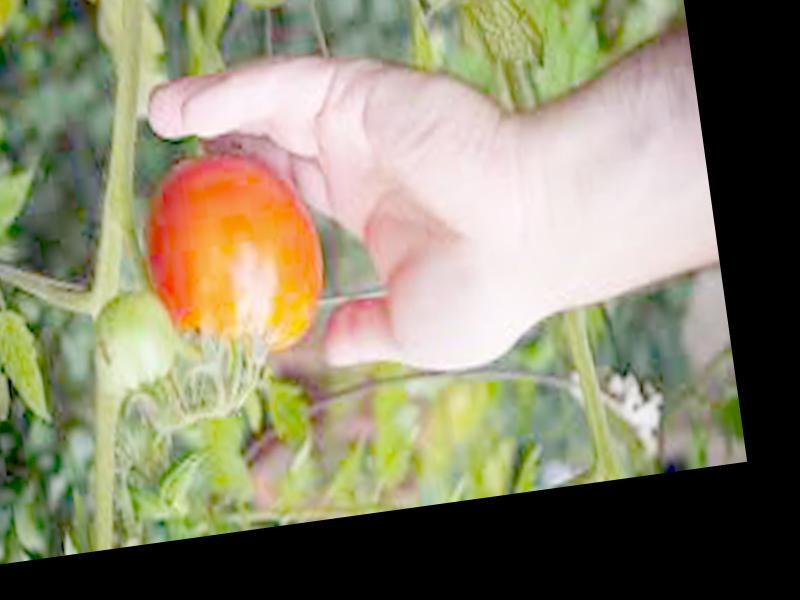Tomato: (129, 143, 335, 372)
